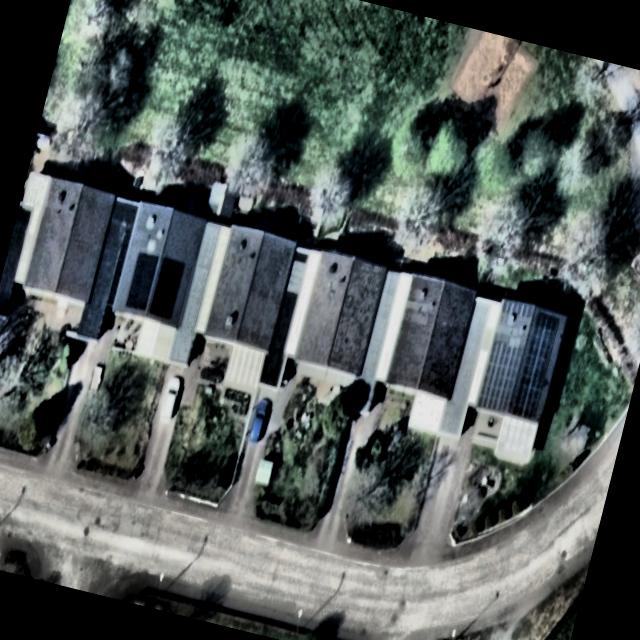roof_pv: (510, 308, 563, 420), (477, 340, 524, 416), (123, 248, 160, 312), (148, 257, 186, 319), (499, 296, 534, 320)
